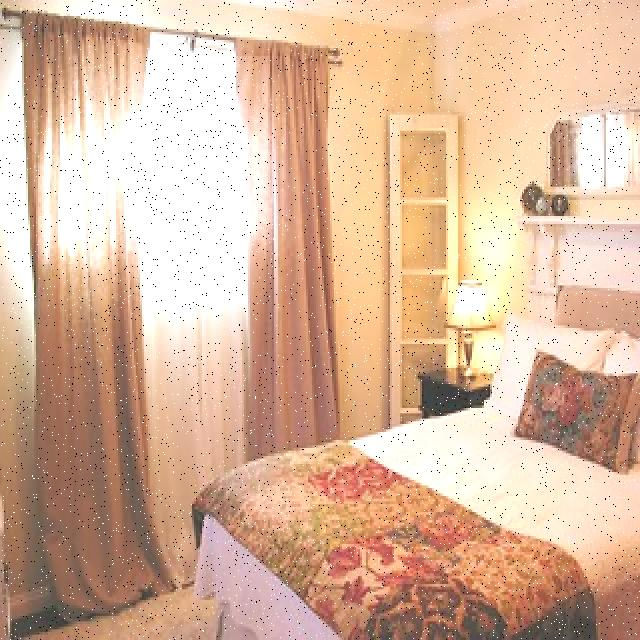bed: (185, 307, 640, 640)
